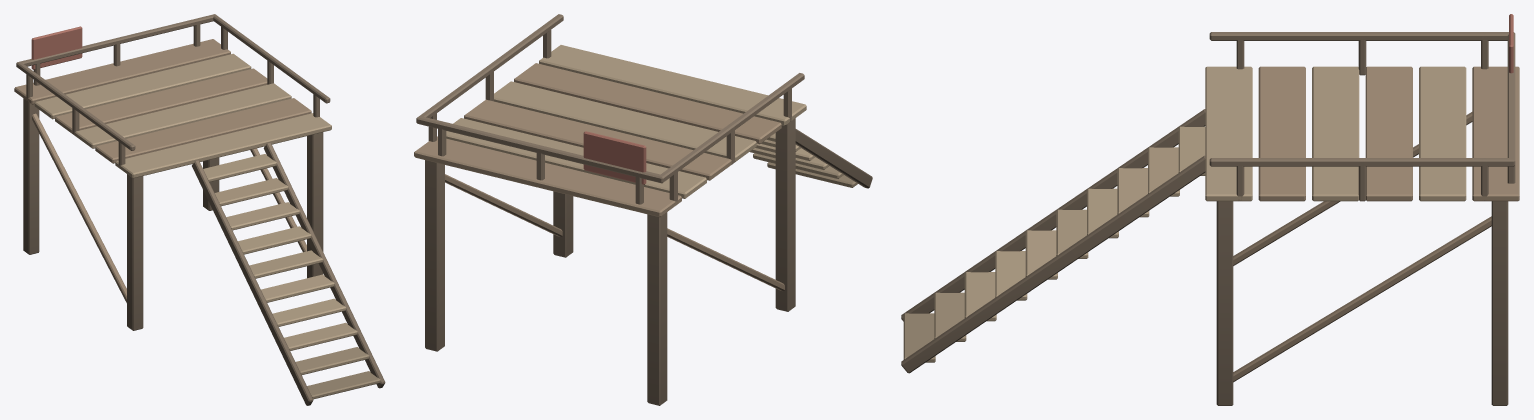
The model's file is iv_platform.glb.
3 views of the same model, side by side, from view 1: azimuth 30°, elevation 25°; view 2: azimuth 150°, elevation 25°; view 3: azimuth 270°, elevation 25° (orthographic). The views are drawn at different scales.
Parts seen in each view (by area): view 1: iv_platform; view 2: iv_platform; view 3: iv_platform.
Boxes of the visible parts, x1=… form: iv_platform: x1=14, y1=14, x2=385, y2=405; iv_platform: x1=414, y1=14, x2=872, y2=405; iv_platform: x1=901, y1=14, x2=1519, y2=405.
Bounding box in the file's own units: 4 × 4.06 × 8.1.
